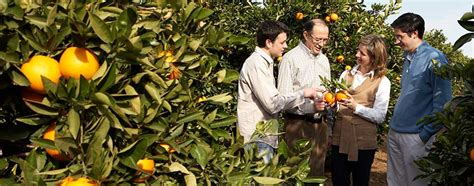orange: (19, 49, 60, 97), (58, 44, 101, 85)
